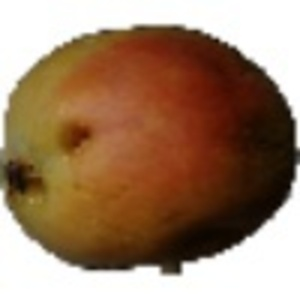mamão: (4, 18, 297, 267)
